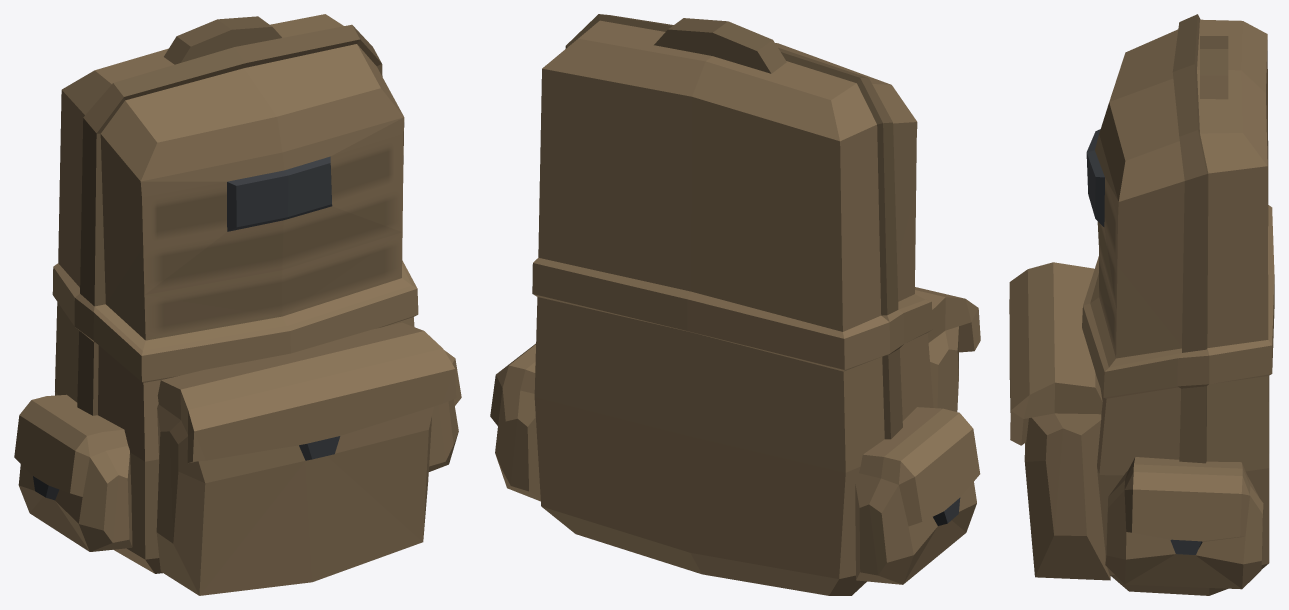
File: SM_Chr_Attach_Backpack_01.fbx
The picture shows the model from 3 angles, left to right: view 1: azimuth 30°, elevation 25°; view 2: azimuth 150°, elevation 25°; view 3: azimuth 270°, elevation 25°; orthographic projection. The views are drawn at different scales.
Visible parts, largest first — view 1: SM_Chr_Attach_Backpack_01; view 2: SM_Chr_Attach_Backpack_01; view 3: SM_Chr_Attach_Backpack_01.
Part boxes in pixels (x1,y1,x2,y2): SM_Chr_Attach_Backpack_01: [14, 14, 461, 595]; SM_Chr_Attach_Backpack_01: [490, 14, 980, 595]; SM_Chr_Attach_Backpack_01: [1009, 14, 1274, 595].
Bounding box in the file's own units: 47.21 × 56.89 × 27.48.
